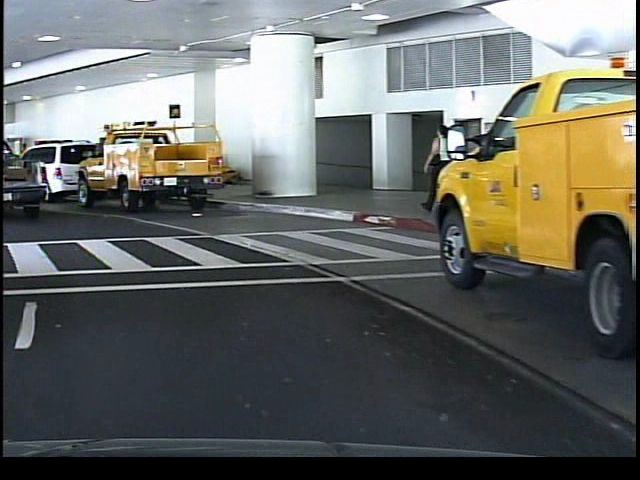person: (419, 118, 457, 224)
